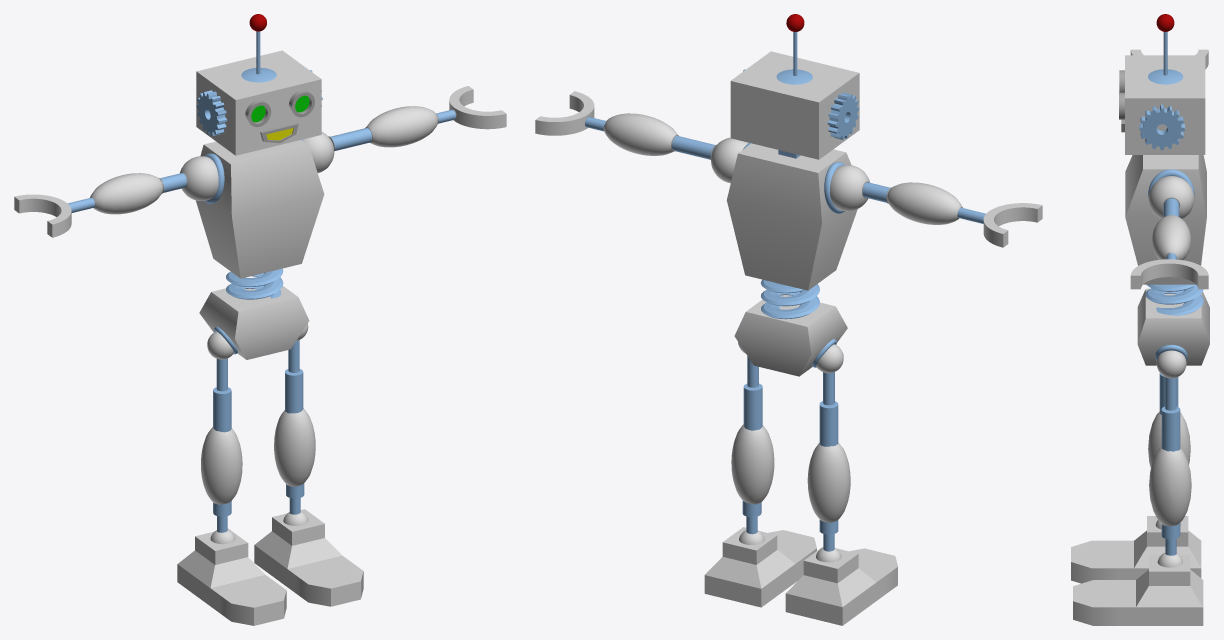
File: Deta.fbx
3 views of the same model, side by side, from view 1: azimuth 30°, elevation 25°; view 2: azimuth 150°, elevation 25°; view 3: azimuth 270°, elevation 25° (orthographic). The views are drawn at different scales.
Parts seen in each view (by area): view 1: Deta; view 2: Deta; view 3: Deta.
Part boxes in pixels (x1,y1,x2,y2): Deta: (14, 14, 506, 625); Deta: (535, 14, 1042, 625); Deta: (1071, 14, 1209, 625).
Bounding box in the file's own units: 3.53 × 4.19 × 0.916.
